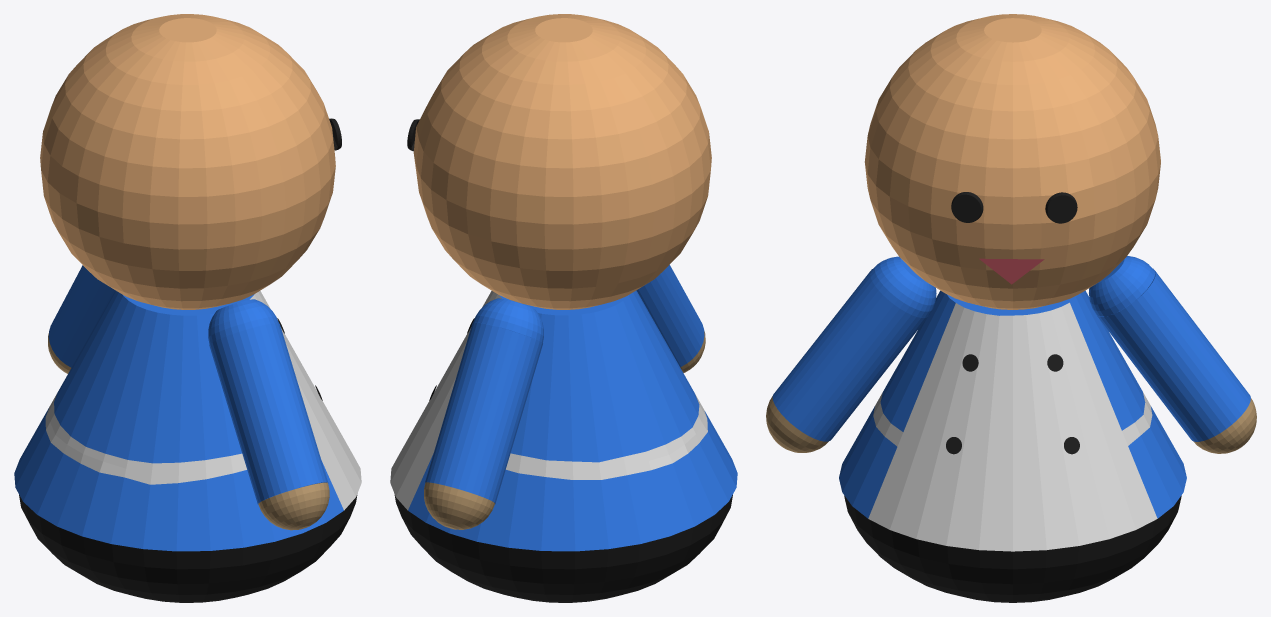
File: Player.fbx
The picture shows the model from 3 angles, left to right: view 1: azimuth 30°, elevation 25°; view 2: azimuth 150°, elevation 25°; view 3: azimuth 270°, elevation 25°; orthographic projection.
Parts seen in each view (by area): view 1: mitehidari.013; view 2: mitehidari.013; view 3: mitehidari.013, mitehidari.008.
Part boxes in pixels (left/top/right/bottom): mitehidari.013: left=14, top=14, right=361, bottom=602; mitehidari.013: left=390, top=14, right=737, bottom=602; mitehidari.013: left=766, top=14, right=1256, bottom=602; mitehidari.008: left=946, top=354, right=1079, bottom=454.
Bounding box in the file's own units: 200 × 347 × 282.
